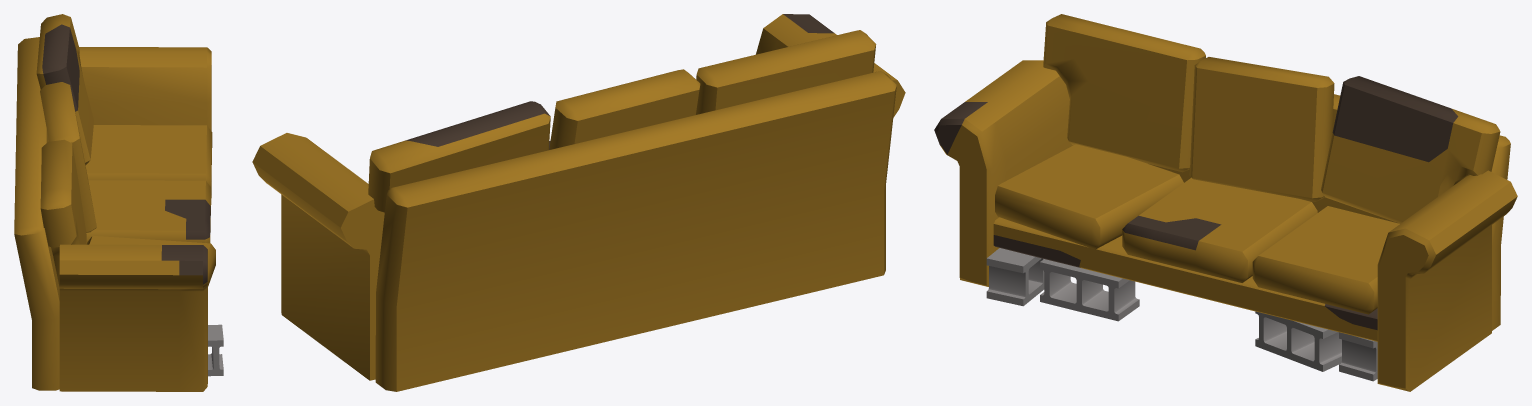
Rendered from couch.001_lev1.glb.
The picture shows the model from 3 angles, left to right: view 1: azimuth 30°, elevation 25°; view 2: azimuth 150°, elevation 25°; view 3: azimuth 270°, elevation 25°; orthographic projection. The views are drawn at different scales.
Visible parts, largest first — view 1: couch.001_lev1; view 2: couch.001_lev1; view 3: couch.001_lev1.
Boxes of the visible parts, left/top/right/bottom form: couch.001_lev1: left=14, top=14, right=223, bottom=391; couch.001_lev1: left=252, top=14, right=905, bottom=391; couch.001_lev1: left=934, top=14, right=1517, bottom=391.
Size of the model in its own units: 2.38 by 1.24 by 3.02.
Materials: 1 (1 with a texture image).
